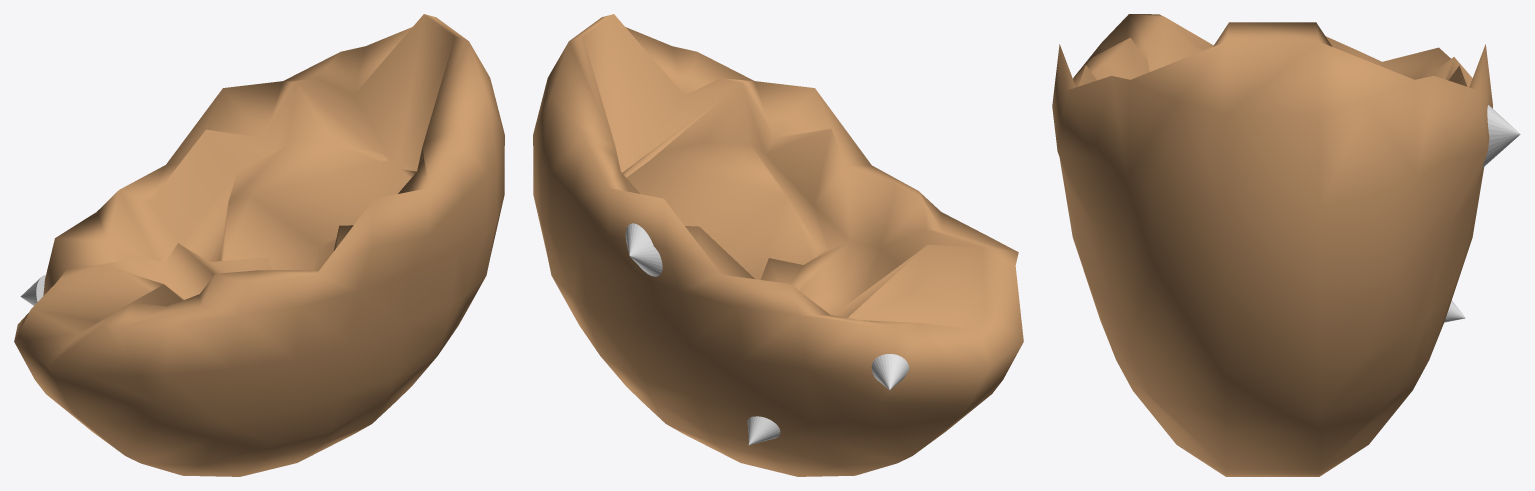
Rendered from cookie6.glb.
3 renders of one model, left to right at view 1: azimuth 30°, elevation 25°; view 2: azimuth 150°, elevation 25°; view 3: azimuth 270°, elevation 25°, orthographic. The views are drawn at different scales.
Parts seen in each view (by area): view 1: Mball.001; view 2: Mball.001, Cone.003, Cone.008, Cone.009; view 3: Mball.001, Cone.003.
Boxes of the visible parts, bbox=[...] form: Mball.001: bbox=[14, 14, 504, 476]; Mball.001: bbox=[533, 14, 1023, 476]; Cone.003: bbox=[625, 223, 662, 276]; Cone.008: bbox=[871, 354, 909, 389]; Cone.009: bbox=[747, 416, 780, 445]; Mball.001: bbox=[1052, 14, 1492, 476]; Cone.003: bbox=[1482, 105, 1520, 168].
Size of the model in its own units: 3.19 by 2.58 by 2.01.
